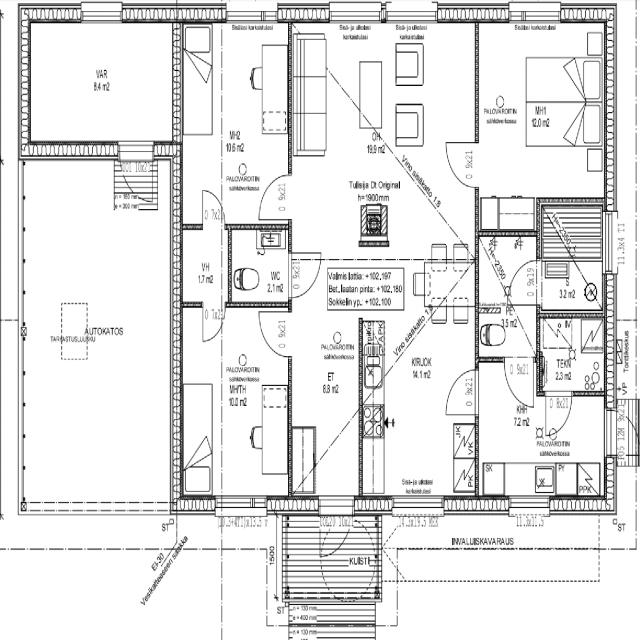door: (319, 495, 353, 567), (119, 141, 152, 211), (604, 408, 640, 456), (506, 260, 542, 305), (258, 311, 292, 357), (288, 252, 322, 298), (446, 370, 480, 416), (258, 174, 292, 219), (446, 142, 480, 187), (504, 356, 534, 406), (546, 391, 572, 436), (202, 302, 225, 343), (203, 190, 225, 229)
